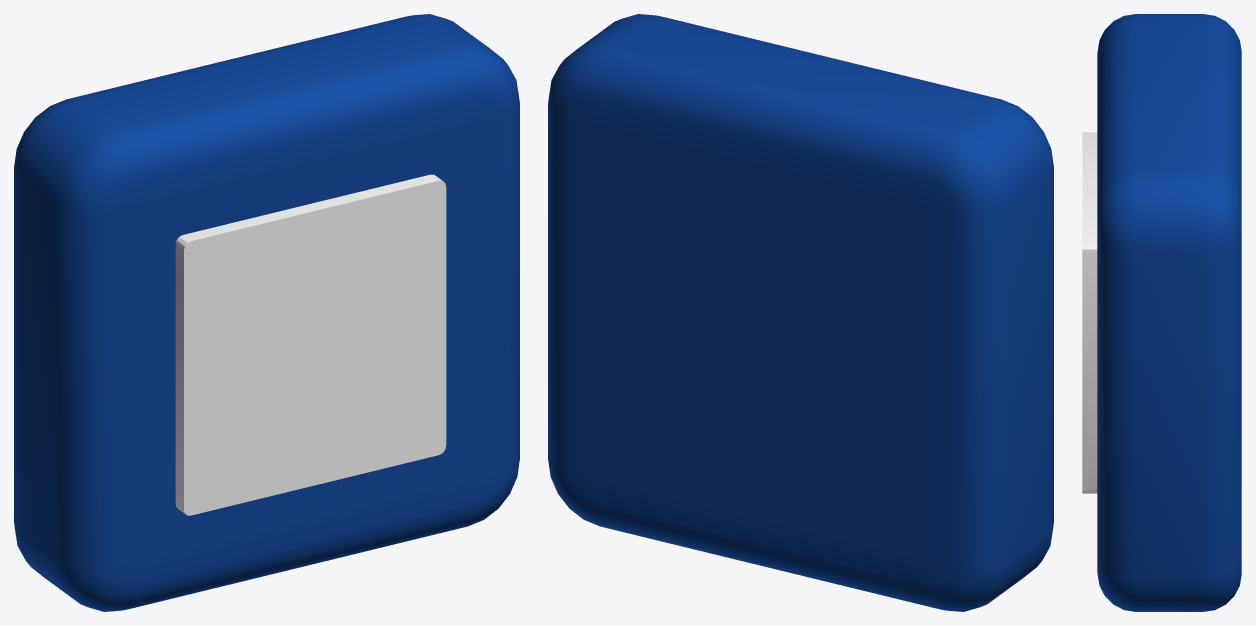
Rendered from stop_button.glb.
3 views of the same model, side by side, from view 1: azimuth 30°, elevation 25°; view 2: azimuth 150°, elevation 25°; view 3: azimuth 270°, elevation 25° (orthographic). The views are drawn at different scales.
Visible parts, largest first — view 1: Cube.6431; view 2: Cube.6431; view 3: Cube.6431.
Part boxes in pixels (bbox=[...]): Cube.6431: bbox=[14, 14, 519, 611]; Cube.6431: bbox=[548, 14, 1053, 611]; Cube.6431: bbox=[1082, 14, 1241, 611].
Bounding box in the file's own units: 2.2 × 2.2 × 0.73.
Materials: 1 (1 with a texture image).
